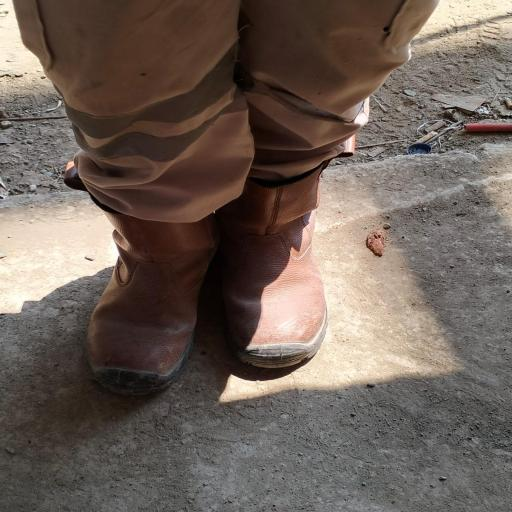safety_shoe: (62, 190, 212, 396), (205, 173, 329, 366)
